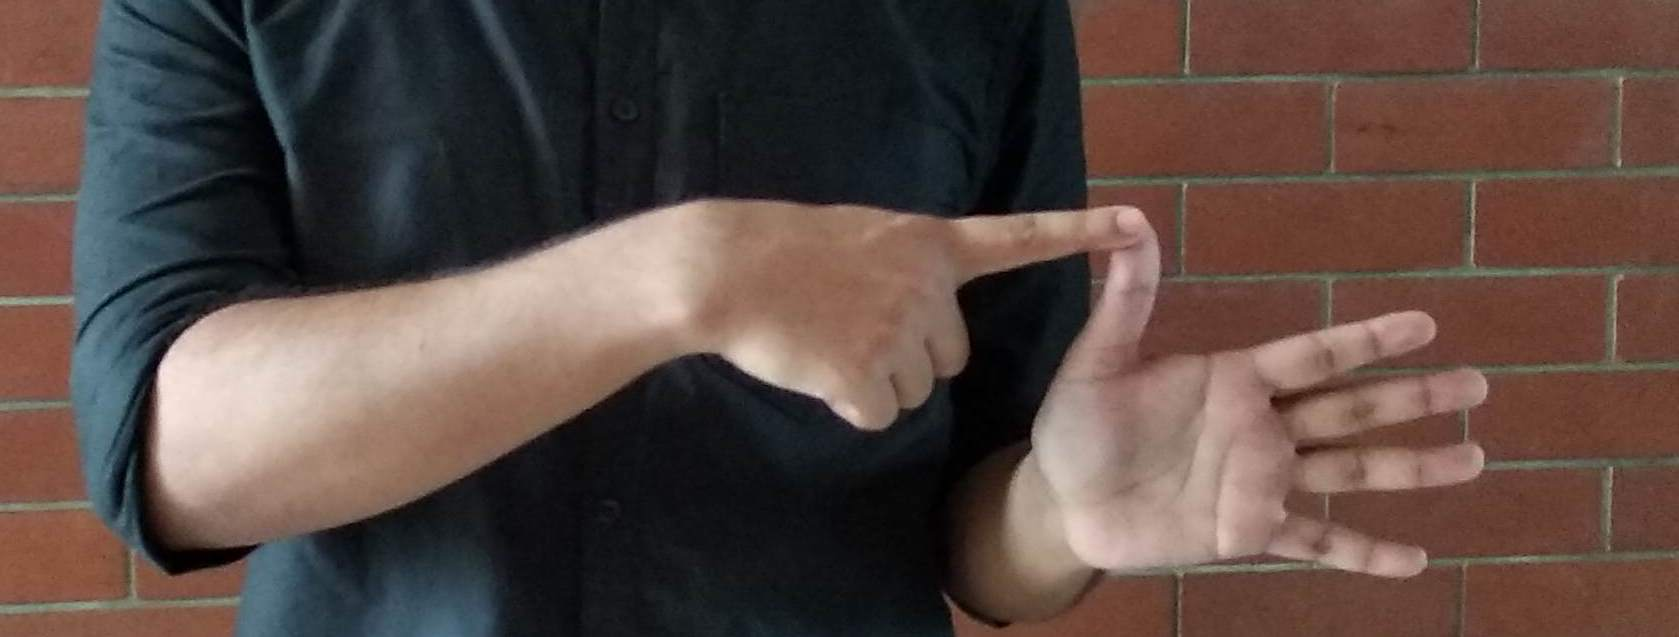a: (706, 199, 1517, 593)
